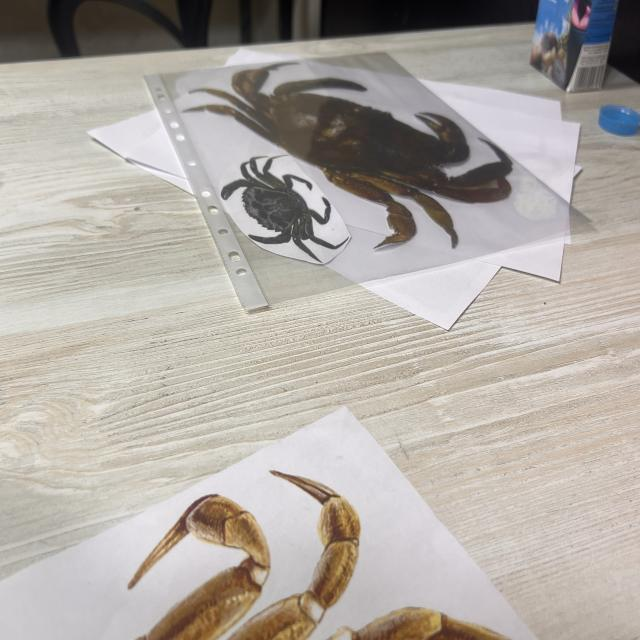European_Green_Crab: (218, 123, 352, 304)
